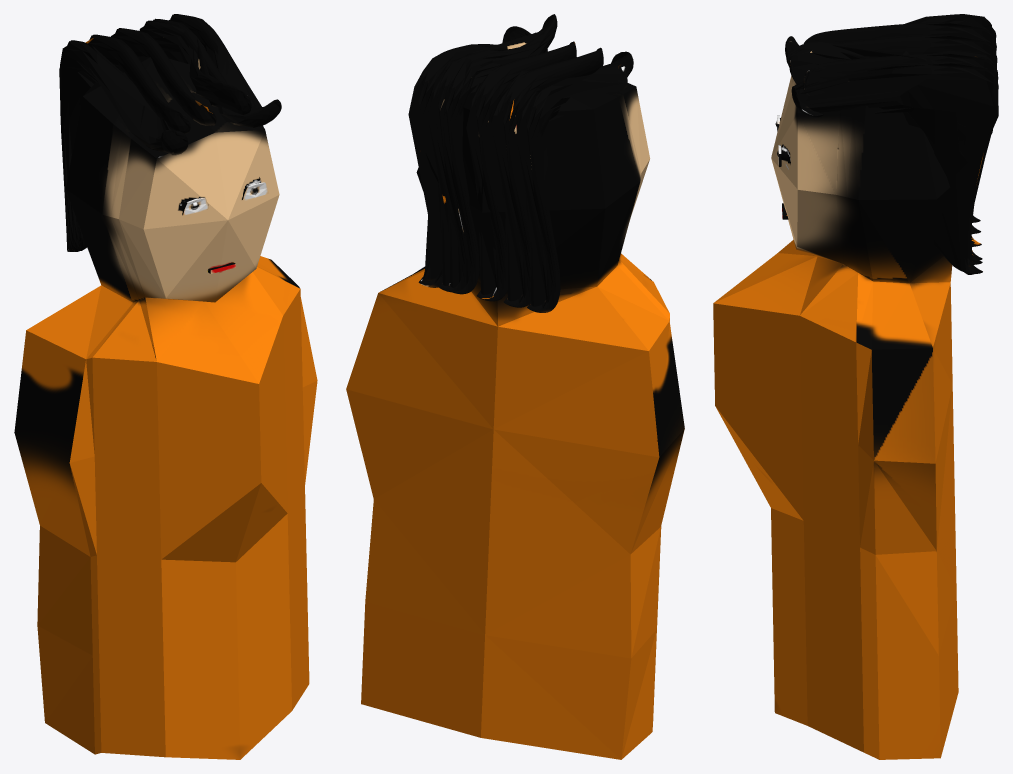
File: Hurman3.obj
The picture shows the model from 3 angles, left to right: view 1: azimuth 30°, elevation 25°; view 2: azimuth 150°, elevation 25°; view 3: azimuth 270°, elevation 25°; orthographic projection. The views are drawn at different scales.
Visible parts, largest first — view 1: Cube; view 2: Cube; view 3: Cube.
Part boxes in pixels (x1,y1,x2,y2): Cube: (14,14,317,759); Cube: (346,14,684,759); Cube: (713,14,998,759).
Bounding box in the file's own units: 3.39 × 7.31 × 2.82.
1 material, 1 textured.
